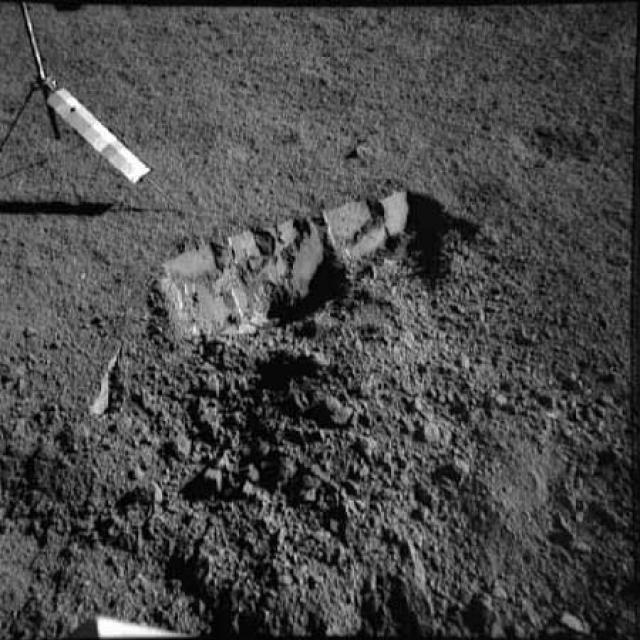artifact: (4, 0, 164, 214)
rock: (87, 347, 131, 421)
